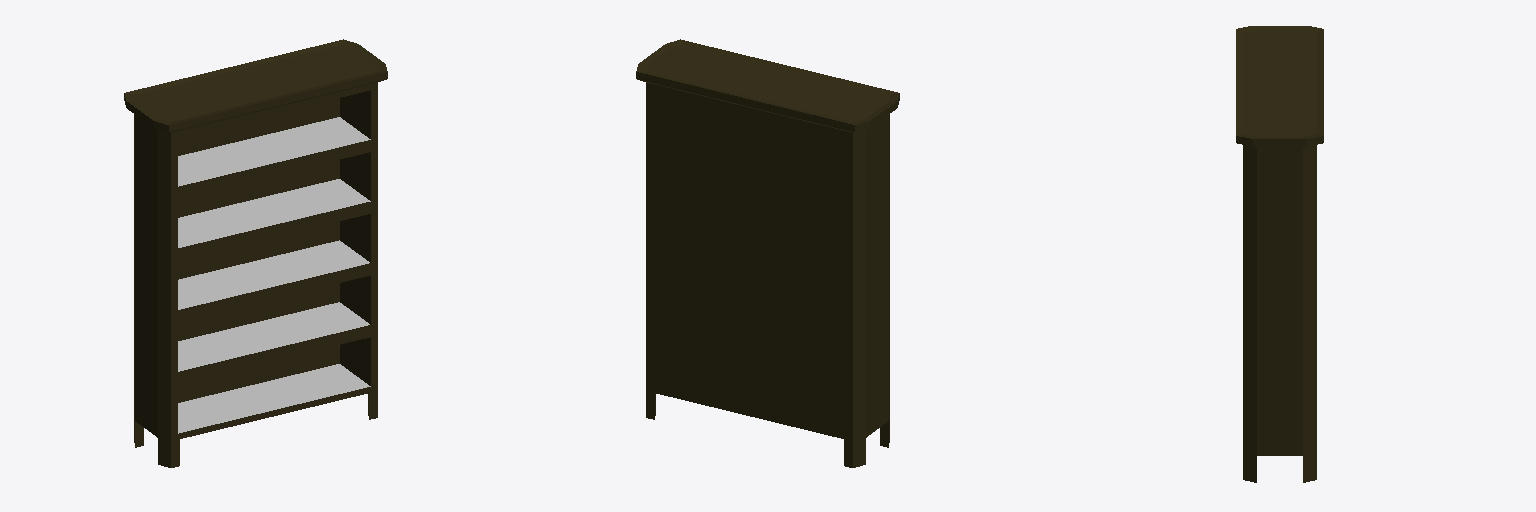
Rendered from Bookshelf.obj.
3 renders of one model, left to right at view 1: azimuth 30°, elevation 25°; view 2: azimuth 150°, elevation 25°; view 3: azimuth 270°, elevation 25°, orthographic.
Visible parts, largest first — view 1: Bookshelf_Cube.008; view 2: Bookshelf_Cube.008; view 3: Bookshelf_Cube.008.
Boxes of the visible parts, x1,y1,x2,y2 form: Bookshelf_Cube.008: [124, 39, 387, 467]; Bookshelf_Cube.008: [636, 39, 899, 467]; Bookshelf_Cube.008: [1236, 26, 1323, 482].
Size of the model in its own units: 4.29 by 6.13 by 1.41.